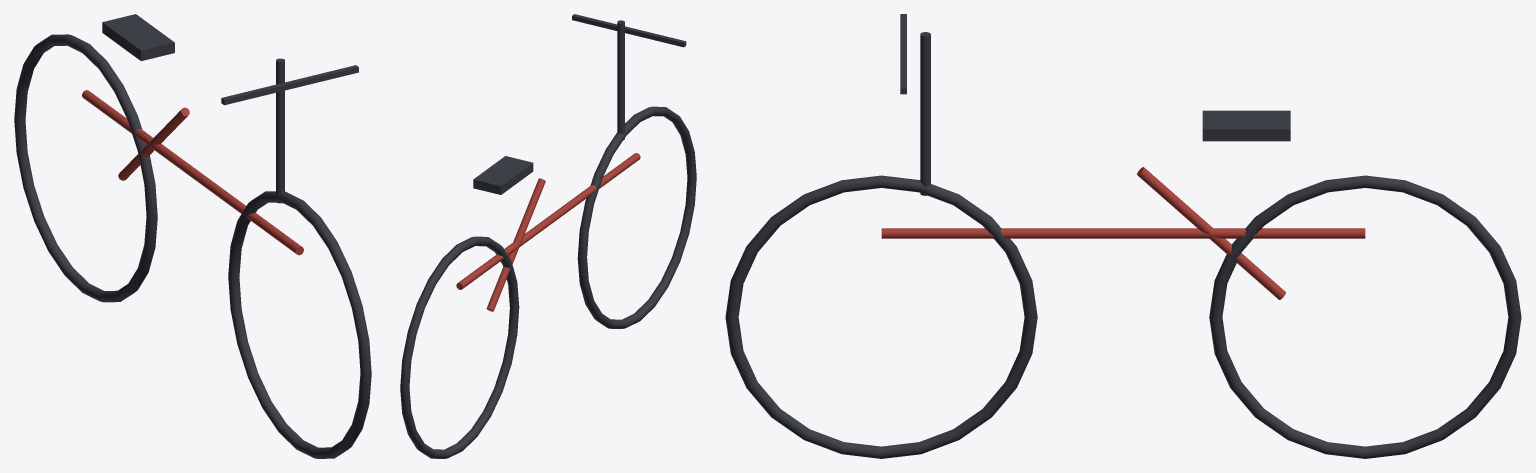
The model's file is bicycle.glb.
3 renders of one model, left to right at view 1: azimuth 30°, elevation 25°; view 2: azimuth 150°, elevation 25°; view 3: azimuth 270°, elevation 25°, orthographic. The views are drawn at different scales.
Parts seen in each view (by area): view 1: tor (×2), cyl (×3), box (×2); view 2: tor (×2), cyl (×3), box (×2); view 3: tor (×2), cyl (×3), box.
Part boxes in pixels (x1,y1,x2,y2): tor (×2): (14,34,371,458); cyl (×3): (82,58,303,255); box (×2): (102,14,358,105); tor (×2): (400,106,696,458); cyl (×3): (456,20,640,311); box (×2): (473,14,686,194); tor (×2): (725,175,1521,458); cyl (×3): (881,32,1365,299); box: (1202,110,1290,141).
Bounding box in the file's own units: 0.4 × 1.06 × 1.81.
